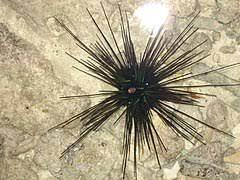urchin: (36, 0, 231, 180)
